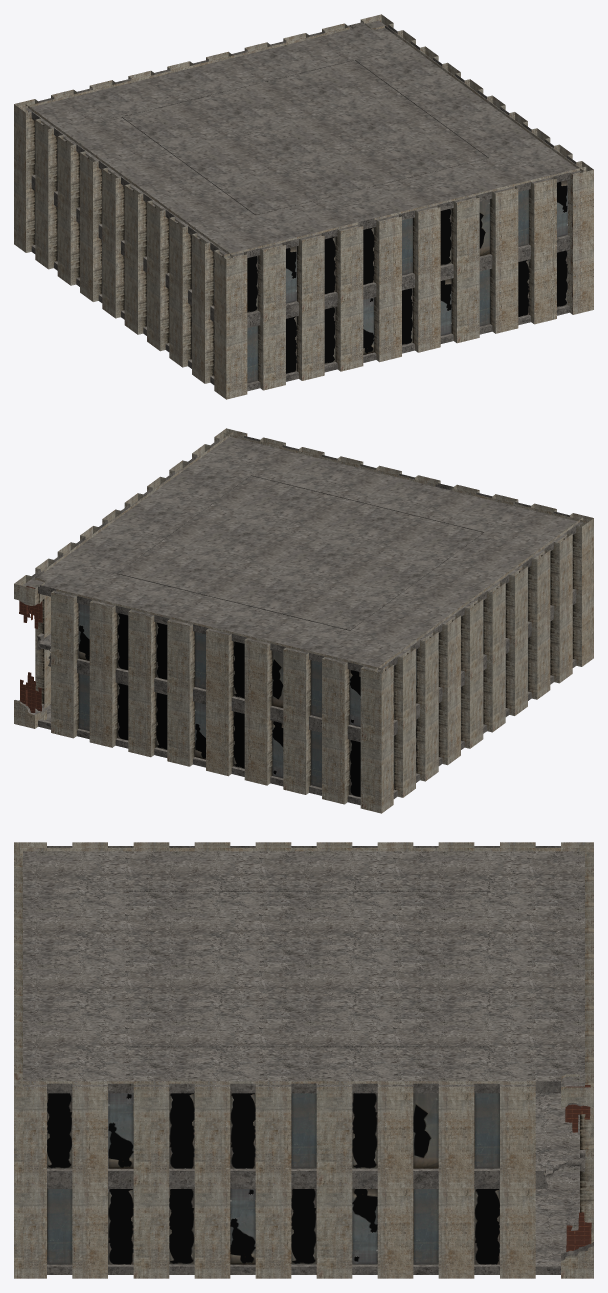
The model's file is Build3_el3.fbx.
The picture shows the model from 3 angles, top to bottom: view 1: azimuth 30°, elevation 25°; view 2: azimuth 150°, elevation 25°; view 3: azimuth 270°, elevation 25°; orthographic projection. The views are drawn at different scales.
Visible parts, largest first — view 1: 3-4_floor; view 2: 3-4_floor; view 3: 3-4_floor.
Boxes of the visible parts, x1=… form: 3-4_floor: x1=14, y1=14, x2=593, y2=399; 3-4_floor: x1=14, y1=428, x2=593, y2=813; 3-4_floor: x1=14, y1=842, x2=593, y2=1278.
Bounding box in the file's own units: 41.84 × 15.24 × 41.84.
